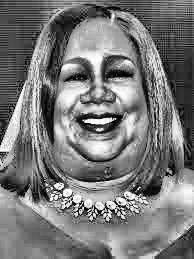happy: (34, 16, 158, 180)
